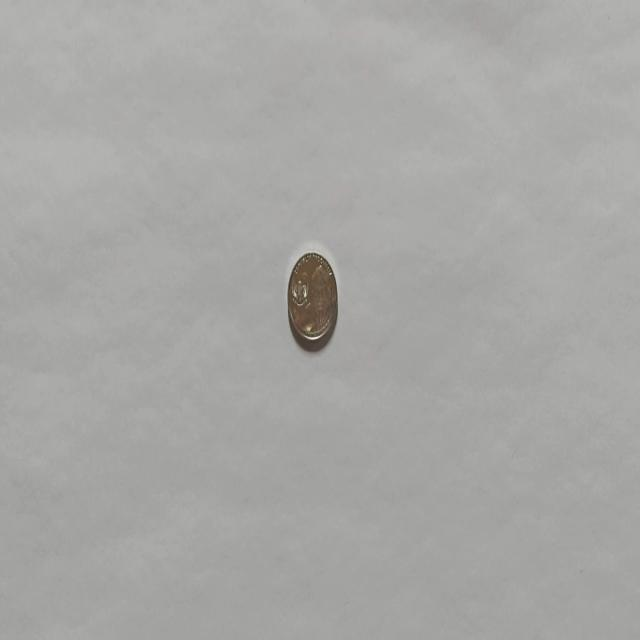dua ratus rupiah: (286, 250, 338, 344)
